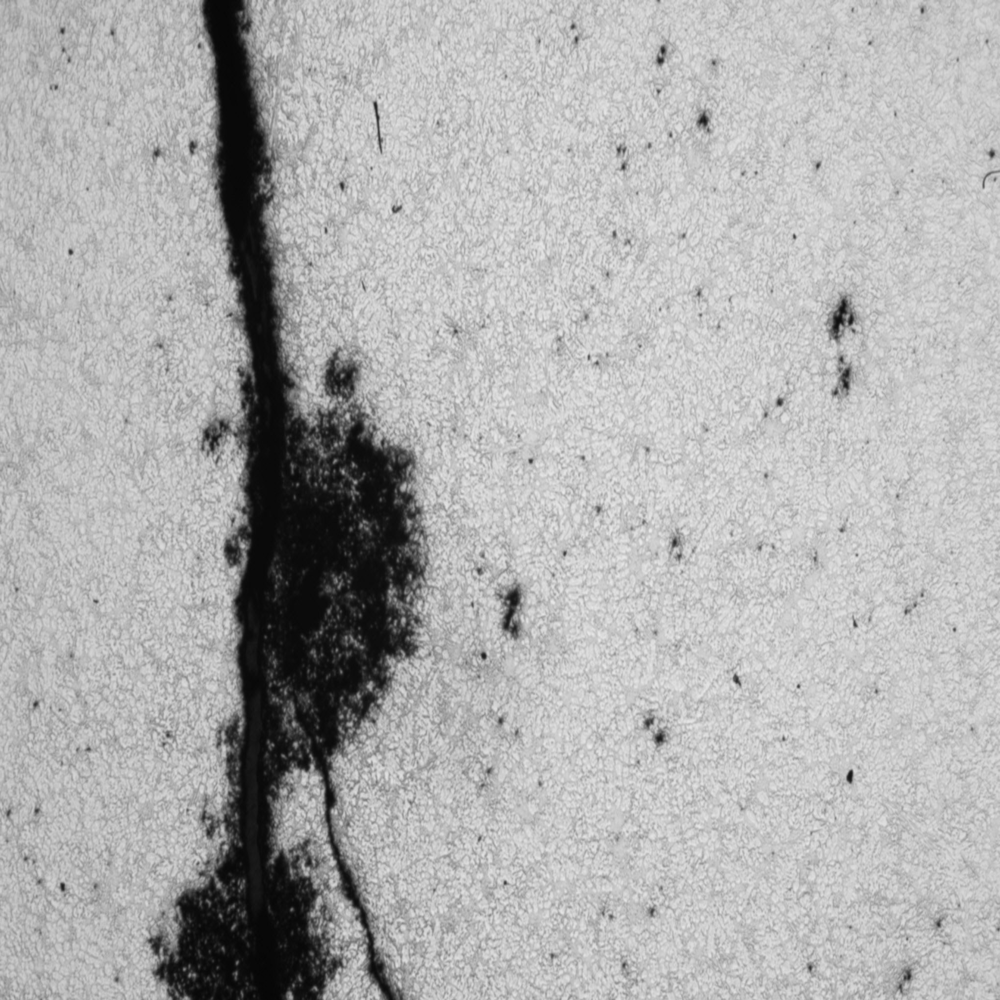crack: (142, 3, 465, 1000)
